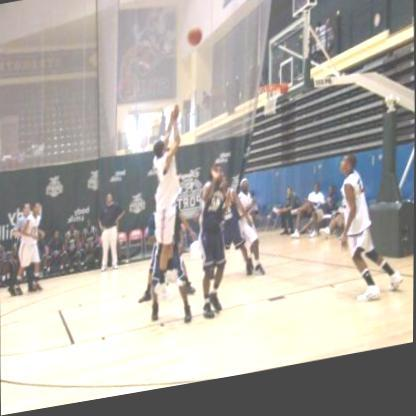basketball: (187, 32, 201, 54)
rim: (257, 90, 280, 105)
